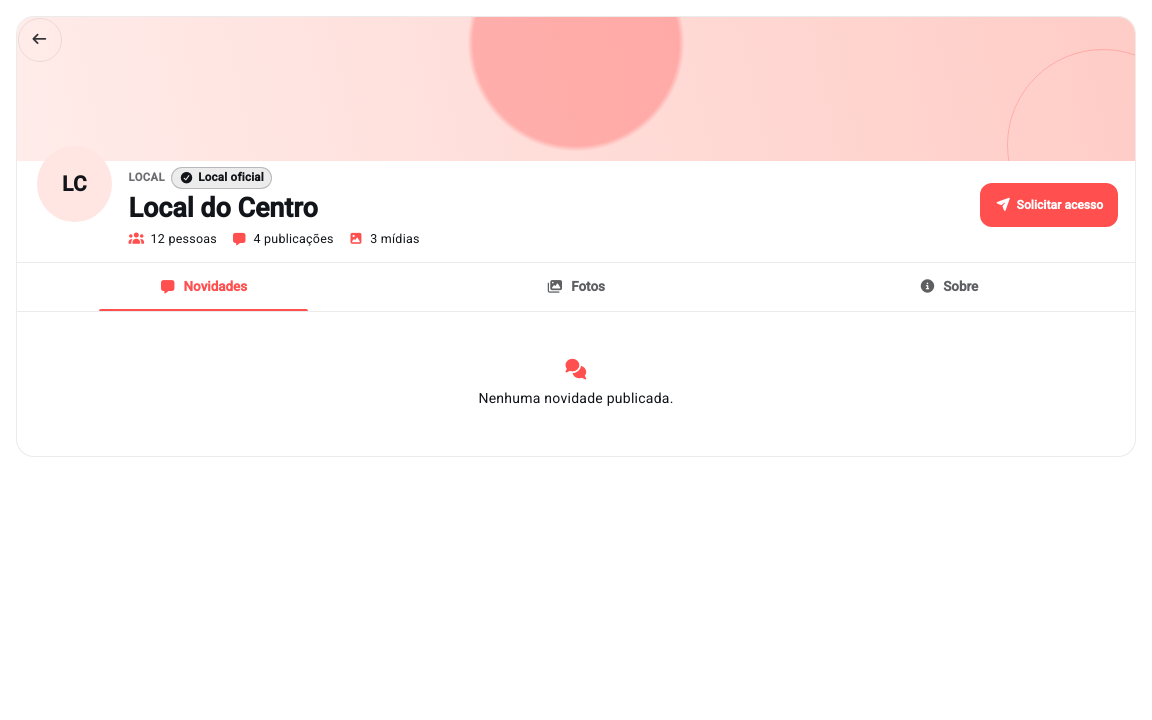
Test case: CommunityPreviewPageComponent / Local › mostra definição, descrição e métricas contextualizadas somente em Sobre
This screenshot has width=1152, height=720.
Click the button "Sobre" at (949, 287), box [762,263,1135,311]
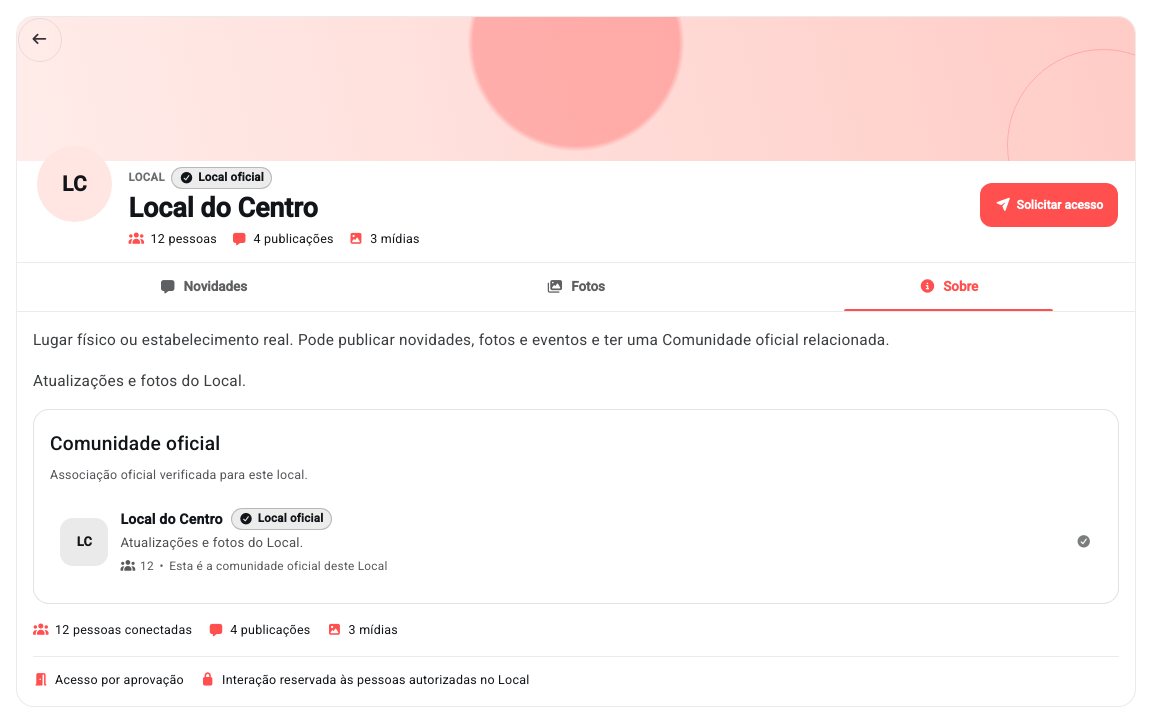
Check: the text "Lugar físico ou estabelecimento real." is shown, box [33,331,890,349]
Check: the text "Atualizações e fotos do Local." is shown, box [33,372,246,390]
Check: the text "12 pessoas conectadas" is shown, box [33,620,192,640]
